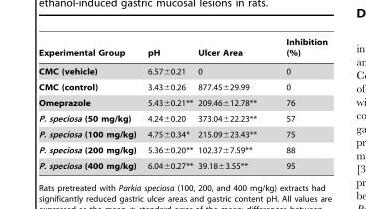table: (37, 37, 327, 170)
table column: (37, 37, 141, 170), (194, 37, 270, 170), (270, 37, 327, 170), (141, 37, 194, 170)
table column header: (37, 37, 327, 61)
table row: (37, 37, 327, 61), (37, 61, 327, 78), (37, 78, 327, 94), (37, 94, 327, 110), (37, 110, 327, 126), (37, 141, 327, 157), (37, 126, 327, 141), (37, 157, 327, 170)
